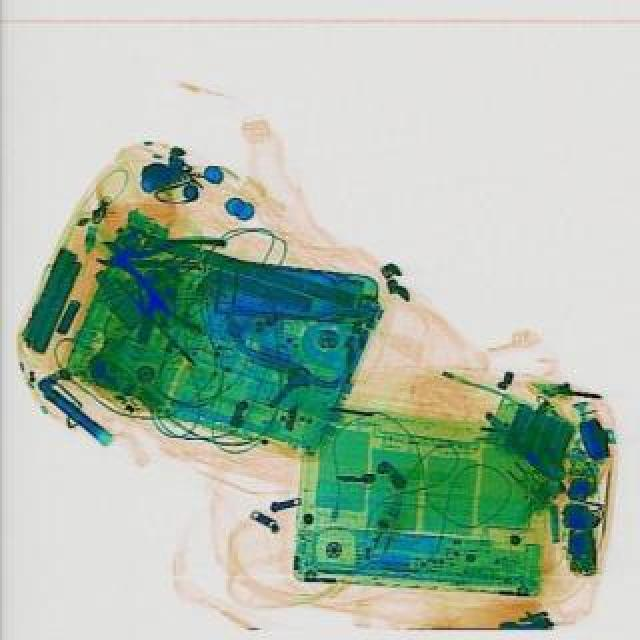wrench: (80, 204, 234, 332)
